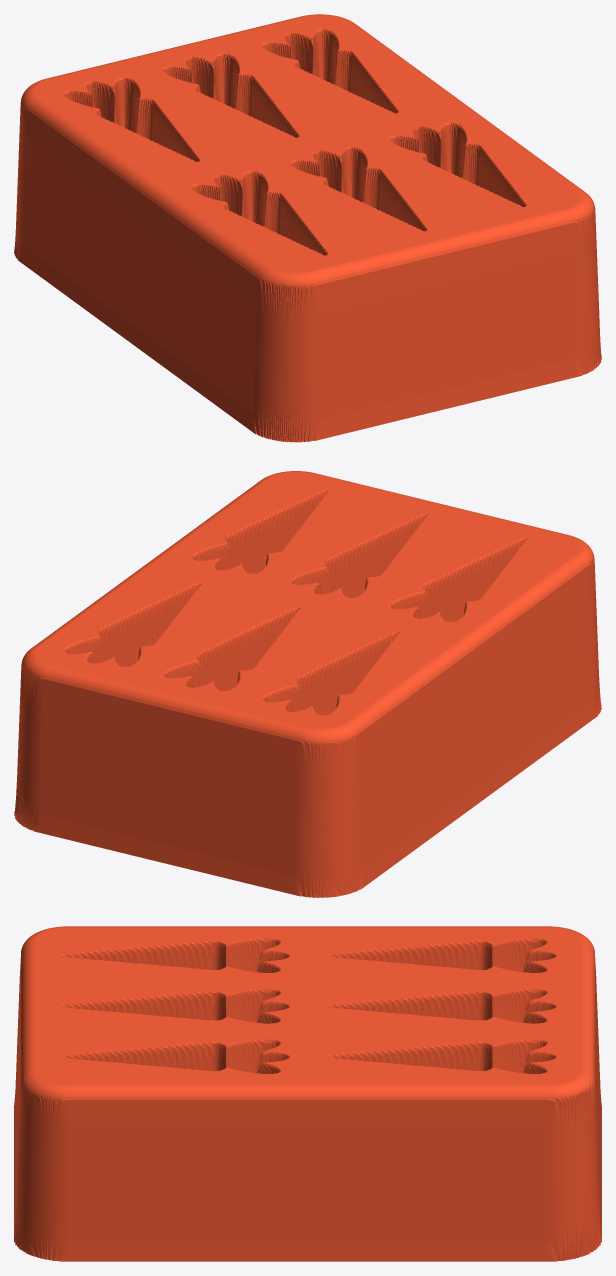
The model's file is mold.glb.
The picture shows the model from 3 angles, top to bottom: view 1: azimuth 30°, elevation 25°; view 2: azimuth 150°, elevation 25°; view 3: azimuth 270°, elevation 25°; orthographic projection. The views are drawn at different scales.
Parts seen in each view (by area): view 1: geometry_0; view 2: geometry_0; view 3: geometry_0.
Boxes of the visible parts, x1,y1,x2,y2 form: geometry_0: [14, 14, 601, 442]; geometry_0: [14, 471, 601, 897]; geometry_0: [14, 926, 601, 1261].
Size of the model in its own units: 0.07 by 0.0314 by 0.0996.
